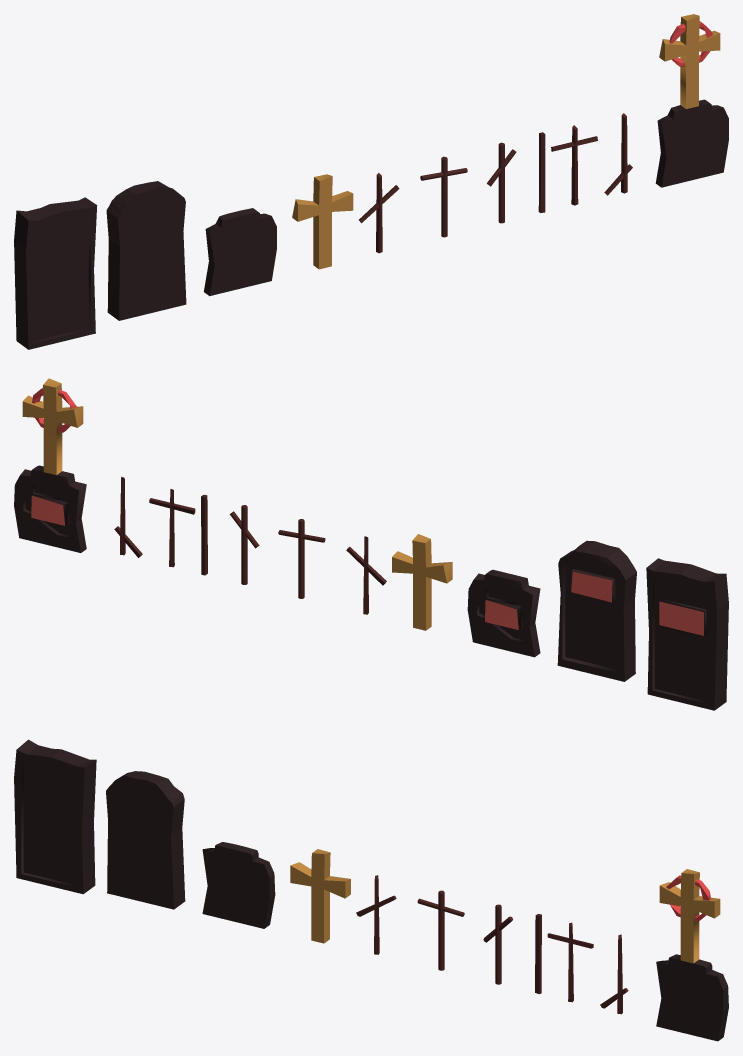
Rendered from CrackedTombCollection.fbx.
3 views of the same model, one above another, from view 1: azimuth 30°, elevation 25°; view 2: azimuth 150°, elevation 25°; view 3: azimuth 330°, elevation 25° (orthographic).
Parts seen in each view (by area): view 1: TombCracked_v1, TombCracked_v3, TombCraked_v2_base, TombCraked_v2_bot_only, StoneCross_low, Cross_Wood_v4_1, Cross_Wood_v2_2, Cross_Wood_v2_1, Cross_Wood_v4_2, Cross_Wood_v2_3, Cross_Wood_v1; view 2: TombCracked_v1, TombCracked_v3, TombCraked_v2_base, TombCraked_v2_bot_only, StoneCross_low, Cross_Wood_v4_1, Cross_Wood_v4_2, Cross_Wood_v2_2, Cross_Wood_v2_1, Cross_Wood_v2_3, Cross_Wood_v1; view 3: TombCracked_v1, TombCracked_v3, TombCraked_v2_base, TombCraked_v2_bot_only, StoneCross_low, Cross_Wood_v4_1, Cross_Wood_v4_2, Cross_Wood_v2_1, Cross_Wood_v2_2, Cross_Wood_v2_3, Cross_Wood_v1.
Boxes of the visible parts, x1=… form: TombCracked_v1: x1=14, y1=197, x2=97, y2=349; TombCracked_v3: x1=106, y1=181, x2=186, y2=320; TombCraked_v2_base: x1=655, y1=14, x2=728, y2=187; TombCraked_v2_bot_only: x1=204, y1=208, x2=276, y2=296; StoneCross_low: x1=292, y1=174, x2=353, y2=269; Cross_Wood_v4_1: x1=420, y1=156, x2=467, y2=237; Cross_Wood_v2_2: x1=359, y1=173, x2=399, y2=253; Cross_Wood_v2_1: x1=551, y1=125, x2=597, y2=205; Cross_Wood_v4_2: x1=487, y1=142, x2=516, y2=223; Cross_Wood_v2_3: x1=604, y1=113, x2=632, y2=195; Cross_Wood_v1: x1=538, y1=132, x2=545, y2=212; TombCracked_v1: x1=646, y1=558, x2=728, y2=710; TombCracked_v3: x1=557, y1=540, x2=636, y2=681; TombCraked_v2_base: x1=14, y1=378, x2=86, y2=552; TombCraked_v2_bot_only: x1=467, y1=569, x2=540, y2=657; StoneCross_low: x1=392, y1=534, x2=452, y2=630; Cross_Wood_v4_1: x1=278, y1=519, x2=325, y2=598; Cross_Wood_v4_2: x1=230, y1=505, x2=259, y2=584; Cross_Wood_v2_2: x1=346, y1=536, x2=386, y2=614; Cross_Wood_v2_1: x1=149, y1=489, x2=195, y2=567; Cross_Wood_v2_3: x1=114, y1=476, x2=142, y2=557; Cross_Wood_v1: x1=201, y1=494, x2=207, y2=575; TombCracked_v1: x1=14, y1=739, x2=96, y2=894; TombCracked_v3: x1=106, y1=771, x2=185, y2=909; TombCraked_v2_base: x1=656, y1=869, x2=728, y2=1041; TombCraked_v2_bot_only: x1=202, y1=842, x2=275, y2=928; StoneCross_low: x1=290, y1=849, x2=350, y2=943; Cross_Wood_v4_1: x1=417, y1=890, x2=464, y2=970; Cross_Wood_v4_2: x1=483, y1=904, x2=512, y2=984; Cross_Wood_v2_1: x1=547, y1=922, x2=593, y2=1002; Cross_Wood_v2_2: x1=356, y1=875, x2=396, y2=954; Cross_Wood_v2_3: x1=600, y1=934, x2=628, y2=1014; Cross_Wood_v1: x1=535, y1=914, x2=541, y2=994.
Size of the model in its own units: 2105 by 68.64 by 468.
